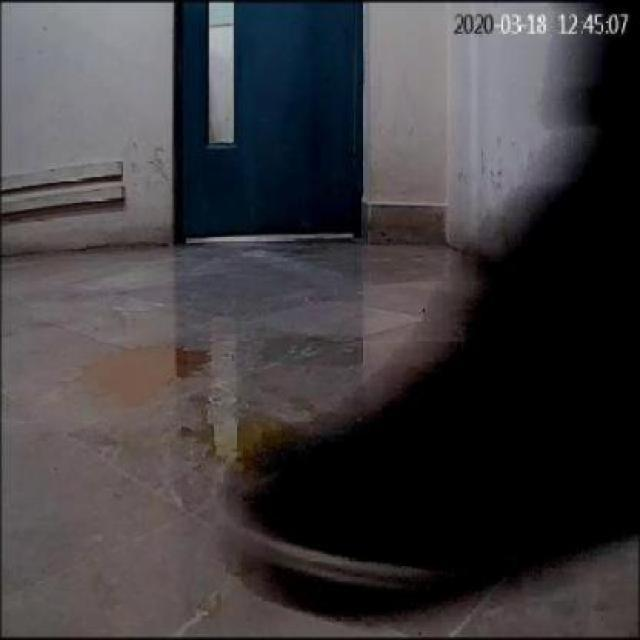spillage: (168, 409, 301, 468), (78, 342, 211, 399)
